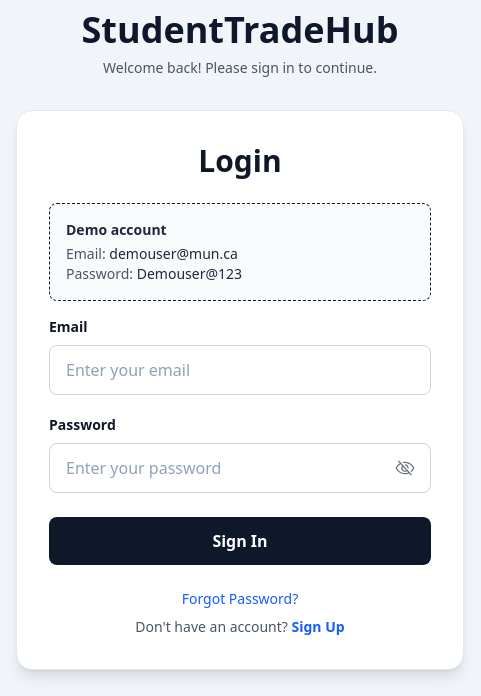
Test case: Login Component › disables submit button while loading
Type "test@example.com" into the field labelled "Email".
click(240, 370); type("test@example.com")  # box [49,345,431,395]
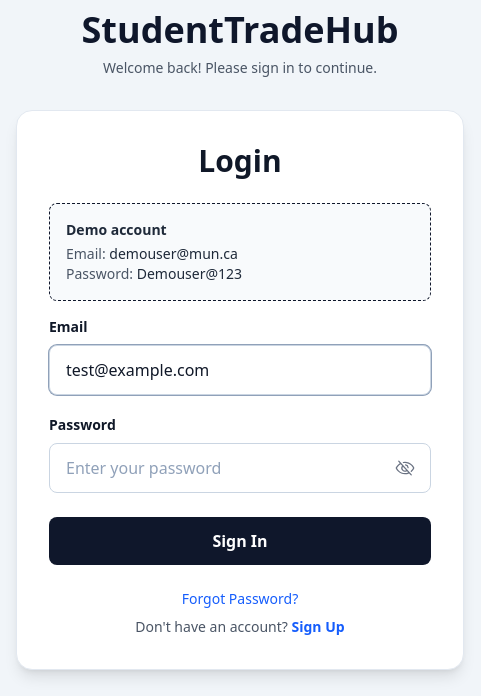
Type "password123" into the password field labelled "Password".
click(240, 468); type("password123")  # box [49,443,431,493]
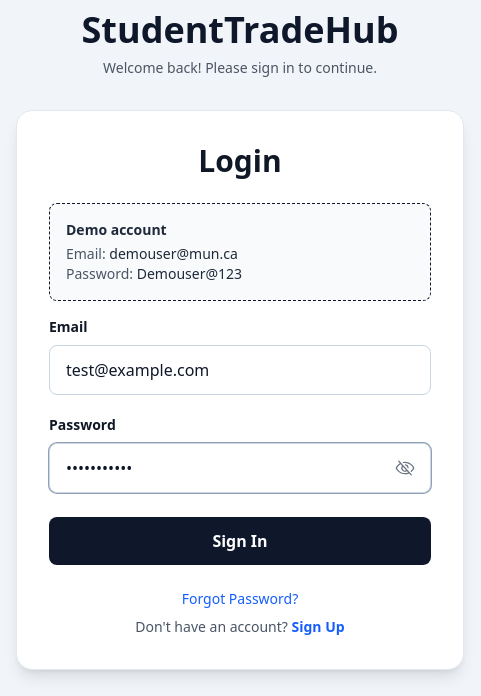
Click the button "Sign In".
click(240, 541)  # box [49,517,431,565]
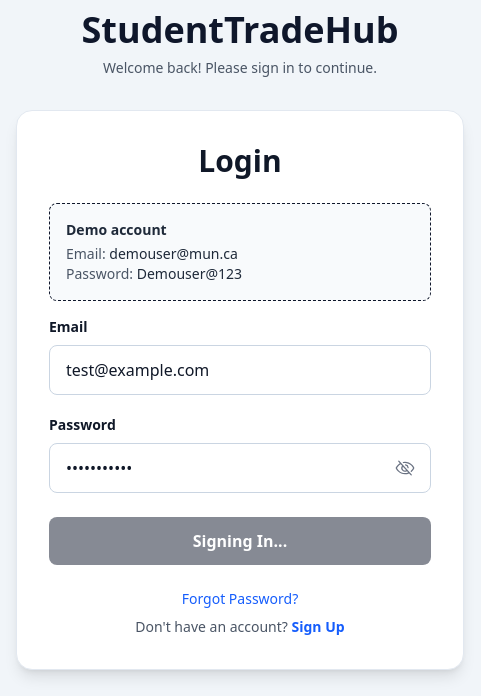
Result: the button named "sign in" is disabled at [49,517,431,565]
